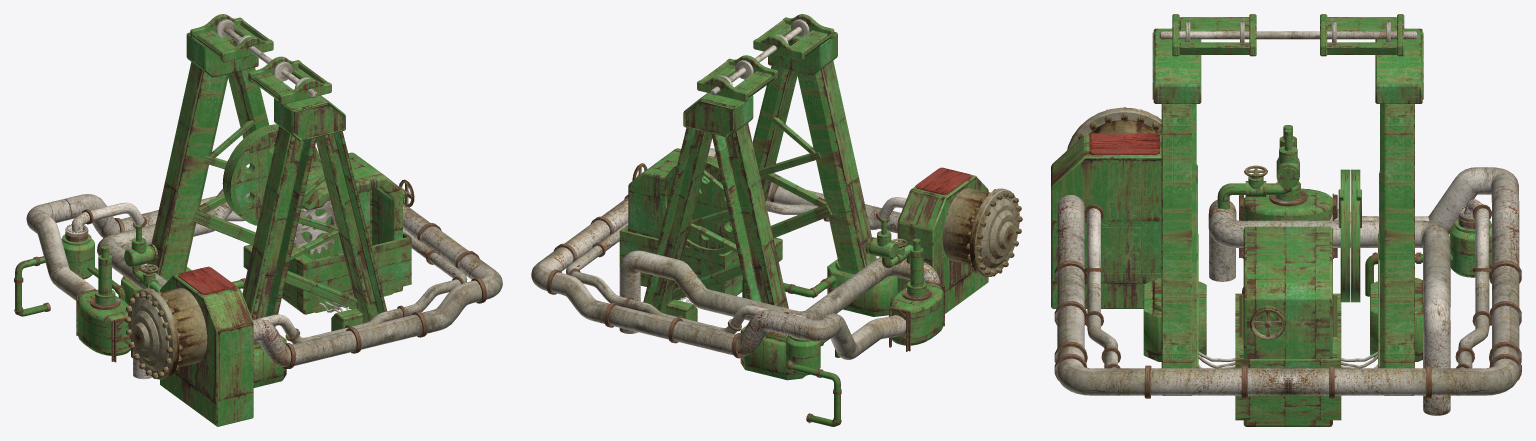
The model's file is static.fbx.
3 views of the same model, side by side, from view 1: azimuth 30°, elevation 25°; view 2: azimuth 150°, elevation 25°; view 3: azimuth 270°, elevation 25° (orthographic). The views are drawn at different scales.
Parts seen in each view (by area): view 1: Cube_7, Sweep_8, Cube_26, Cube_6, Boole_1_2, Cube_1_12, Cylinder_Cylinder_1, Sweep_1_6, Sweep_1_4, Cube_4, Extrude_5, Cylinder_1_8 (+21 smaller); view 2: Cube_7, Sweep_8, Cube_6, Sweep_6, Cube_26, Sweep_1_6, Cube_1_5, Sweep_1_4, Boole_1_2, Cylinder_Cylinder_1, Cube_4, Cube_1_12 (+21 smaller); view 3: Sweep_8, Cube_6, Cube_26, Boole_1_2, Sweep_6, Cube_4, Cube_1_12, Sweep_1_6, Cube_1_5, Sweep_1_4, Cylinder_Cylinder_1, Extrude_5 (+20 smaller).
Boxes of the visible parts, x1,y1,x2,y2 form: Cube_7: (147,62,316,326); Sweep_8: (64,152,502,366); Cube_26: (160,266,253,426); Cube_6: (228,67,386,323); Boole_1_2: (282,152,402,314); Cube_1_12: (282,231,411,310); Cylinder_Cylinder_1: (222,124,319,225); Sweep_1_6: (71,202,467,343); Sweep_1_4: (26,199,96,300); Cube_4: (186,32,345,141); Extrude_5: (77,291,130,355); Cylinder_1_8: (161,288,207,367); Cube_7: (711,60,876,308); Sweep_8: (531,148,900,356); Cube_6: (643,66,797,313); Sweep_6: (619,250,940,333); Cube_26: (897,167,988,313); Sweep_1_6: (566,197,906,333); Cube_1_5: (740,259,897,380); Sweep_1_4: (784,313,905,359); Boole_1_2: (628,148,742,295); Cylinder_Cylinder_1: (660,156,735,254); Cube_4: (683,32,837,137); Cube_1_12: (619,225,742,295); Sweep_8: (1057,189,1519,395); Cube_6: (1161,104,1414,395); Cube_26: (1051,134,1197,308); Boole_1_2: (1243,226,1332,426); Sweep_6: (1208,199,1450,415); Cube_4: (1153,28,1422,103); Cube_1_12: (1235,293,1341,420); Sweep_1_6: (1087,199,1489,368); Cube_1_5: (1143,277,1423,361); Sweep_1_4: (1330,167,1518,234); Cylinder_Cylinder_1: (1340,169,1360,302); Extrude_5: (1243,188,1332,220).
Bounding box in the file's own units: 627 × 503 × 575.
6 materials, 6 textured.
